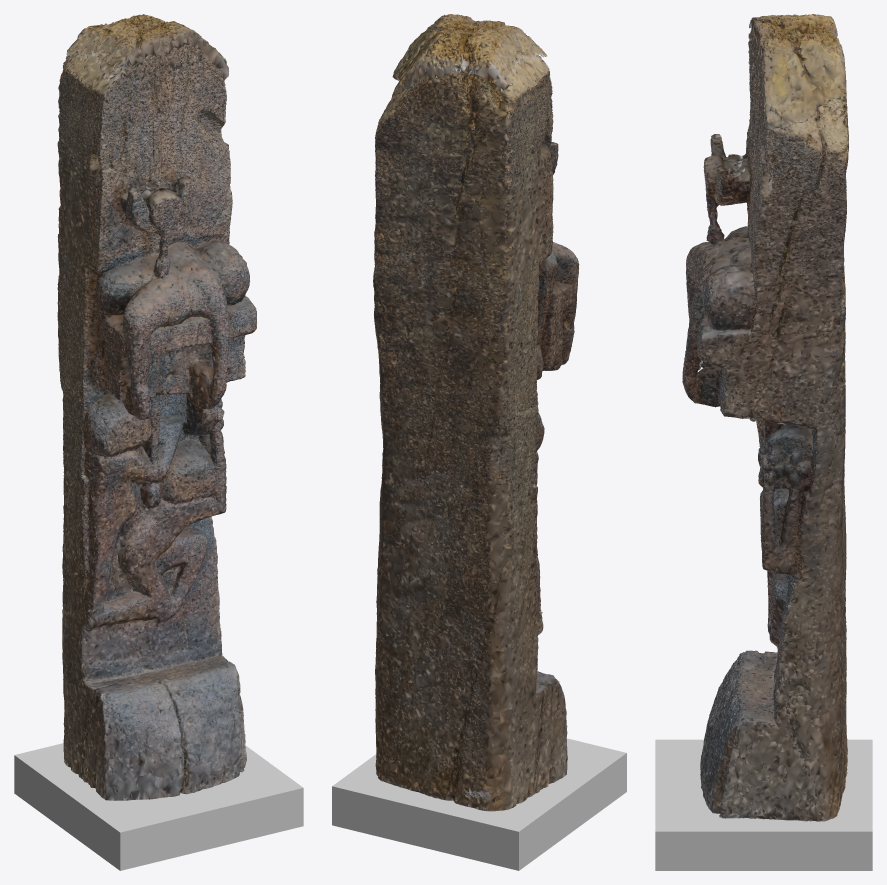
File: preview.glb
3 renders of one model, left to right at view 1: azimuth 30°, elevation 25°; view 2: azimuth 150°, elevation 25°; view 3: azimuth 270°, elevation 25°, orthographic. The views are drawn at different scales.
Visible parts, largest first — view 1: Object_2; view 2: Object_2; view 3: Object_2.
Boxes of the visible parts, x1,y1,x2,y2 form: Object_2: (14,14,303,870); Object_2: (332,14,626,870); Object_2: (655,14,872,870).
Size of the model in its own units: 99.99 by 405 by 99.99.
